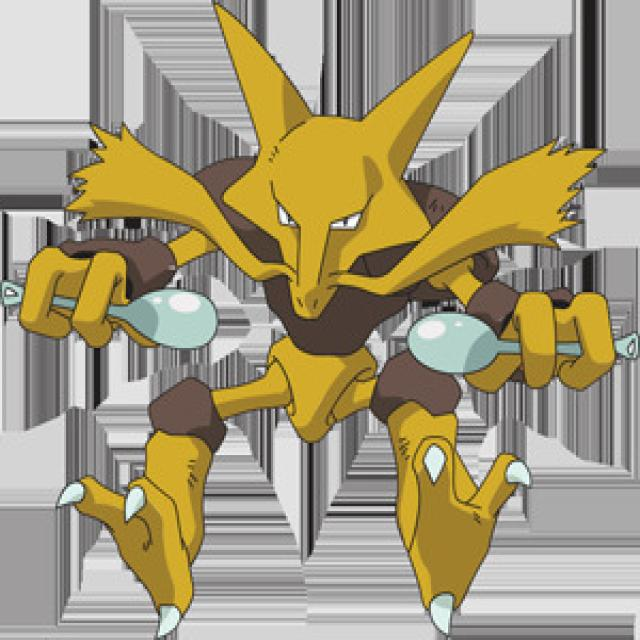Alakazam: (124, 81, 503, 614)
